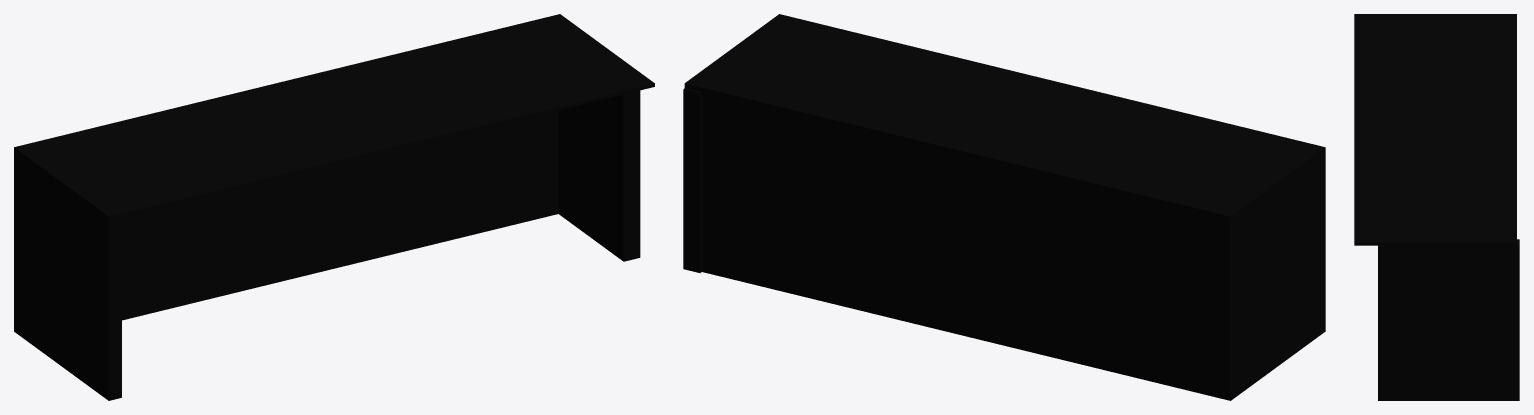
The model's file is KitchenBenchE.fbx.
3 views of the same model, side by side, from view 1: azimuth 30°, elevation 25°; view 2: azimuth 150°, elevation 25°; view 3: azimuth 270°, elevation 25° (orthographic). The views are drawn at different scales.
Parts seen in each view (by area): view 1: node_id5; view 2: node_id5; view 3: node_id5.
Boxes of the visible parts, bbox=[...] form: node_id5: bbox=[14, 14, 654, 400]; node_id5: bbox=[683, 14, 1325, 400]; node_id5: bbox=[1354, 14, 1519, 400].
Size of the model in its own units: 0.512 by 0.1652 by 0.1567.
Materials: 1 (1 with a texture image).
